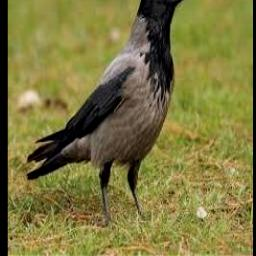Crow: (25, 0, 191, 221)
